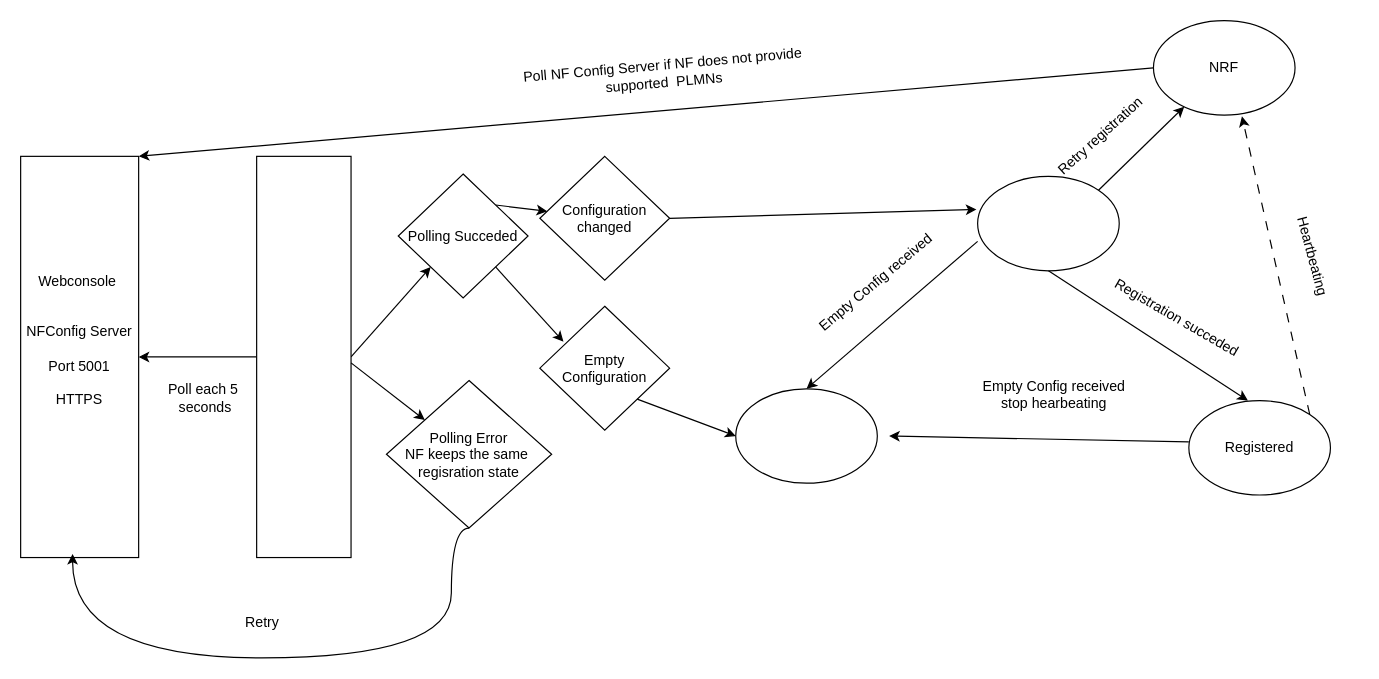
This 1379x679 diagram has some shape labels left out. The shapes that lost their labels are listed below. From the top down, each one's box as (x1, y1, x2, y2) in pixels, then its label:
(976, 175, 1119, 271): Registering
(255, 155, 351, 558): NF Polling Client
(735, 388, 877, 483): Unregistered
